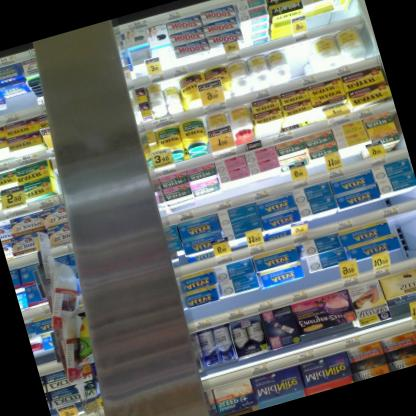empty_space: (286, 38, 317, 80), (392, 204, 416, 251)
